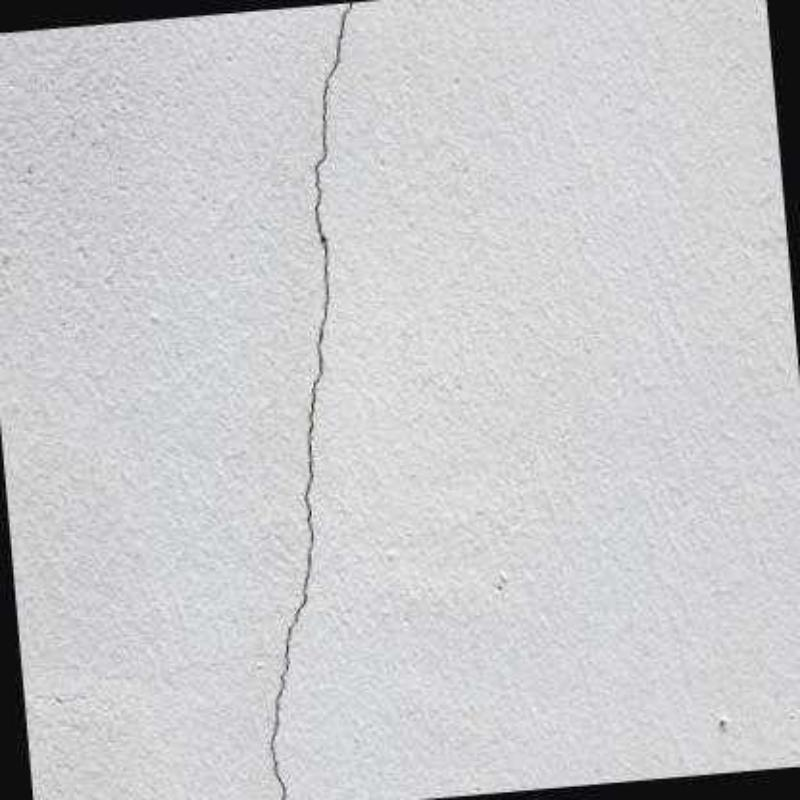pothole: (271, 2, 353, 797)
